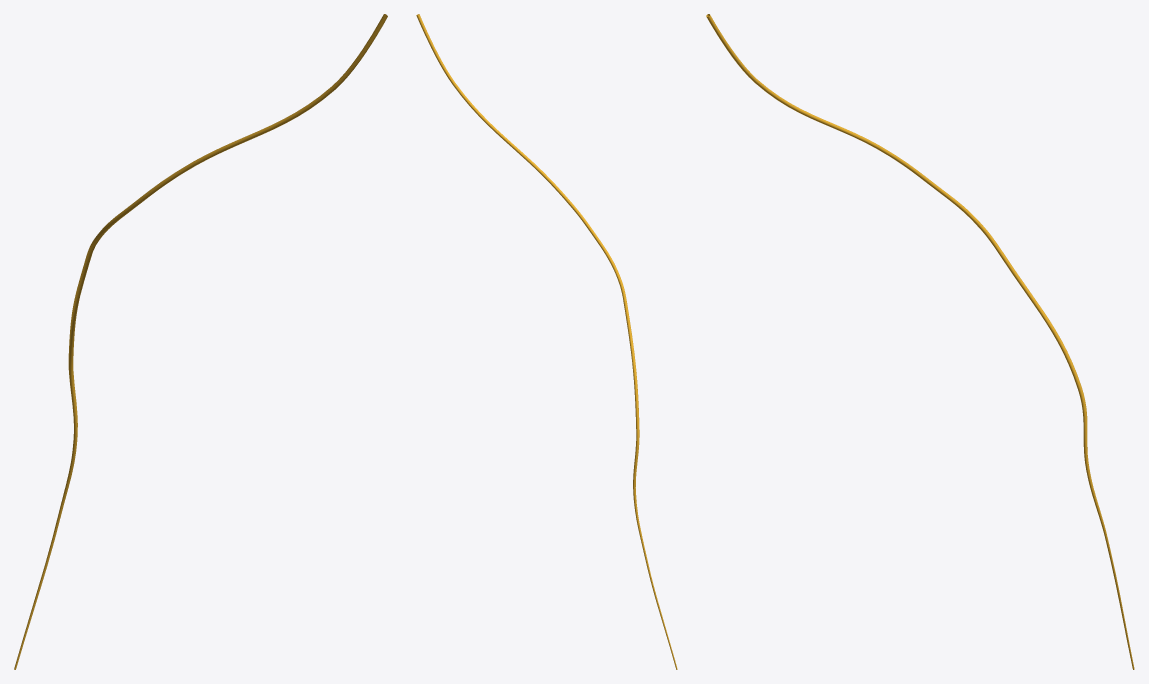
Rendered from nervoso-dorsal-scapular-nerve-r.glb.
3 renders of one model, left to right at view 1: azimuth 30°, elevation 25°; view 2: azimuth 210°, elevation 25°; view 3: azimuth 270°, elevation 25°, orthographic. The views are drawn at different scales.
Visible parts, largest first — view 1: Dorsal scapular nerve.r; view 2: Dorsal scapular nerve.r; view 3: Dorsal scapular nerve.r.
Boxes of the visible parts, x1,y1,x2,y2 form: Dorsal scapular nerve.r: [14, 14, 387, 669]; Dorsal scapular nerve.r: [416, 14, 677, 669]; Dorsal scapular nerve.r: [706, 14, 1134, 669].
Bounding box in the file's own units: 0.0332 × 0.1789 × 0.0974.
